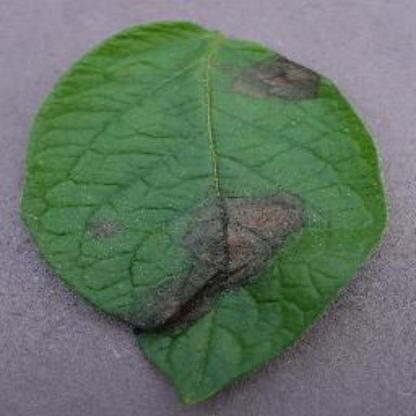Late-Blight: (19, 14, 402, 408)
